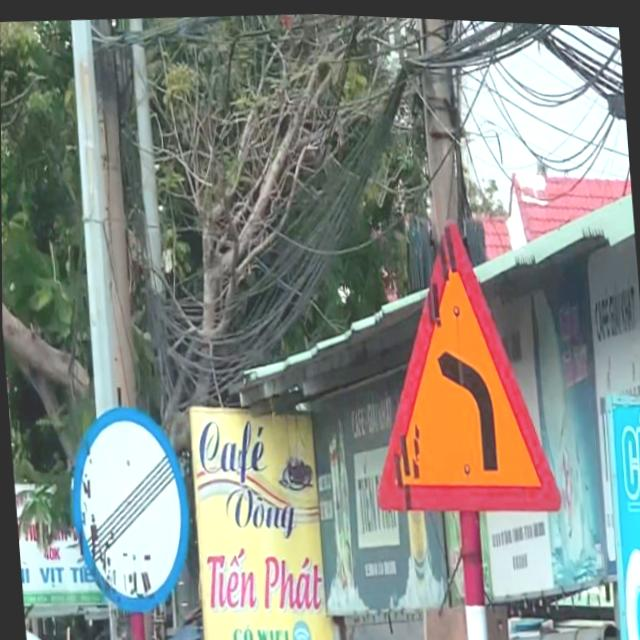cho ngoat nguy hiem vong ben trai: (346, 188, 569, 535)
